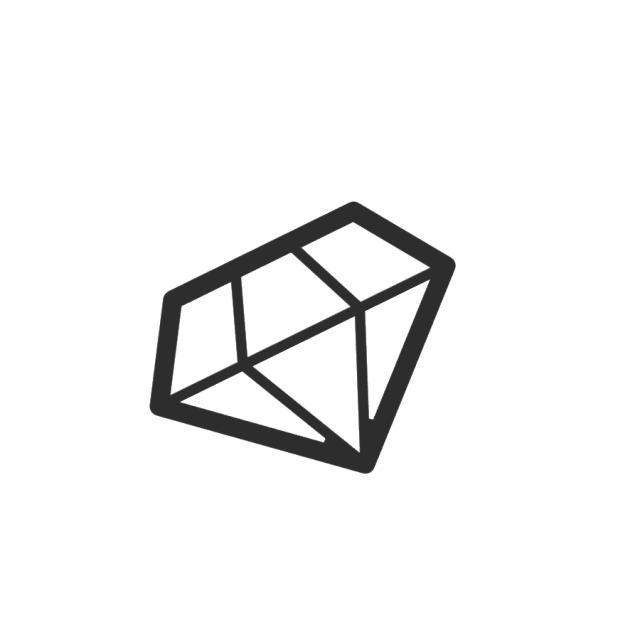diamond: (144, 197, 462, 483)
